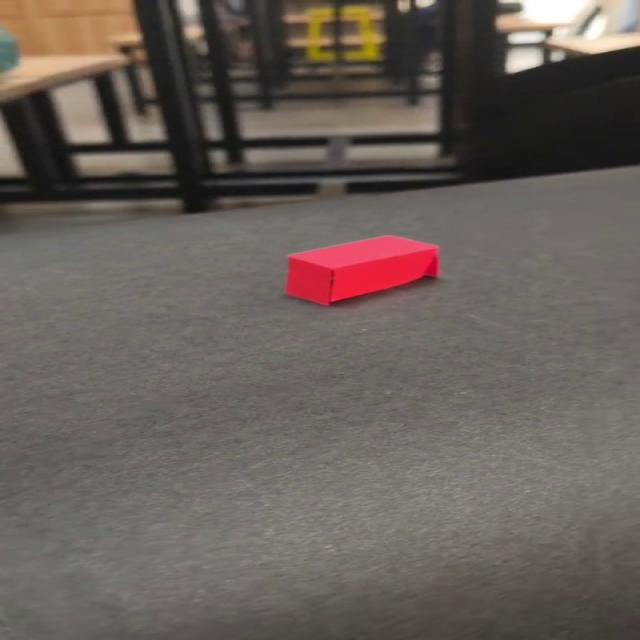red block: (283, 233, 440, 306)
